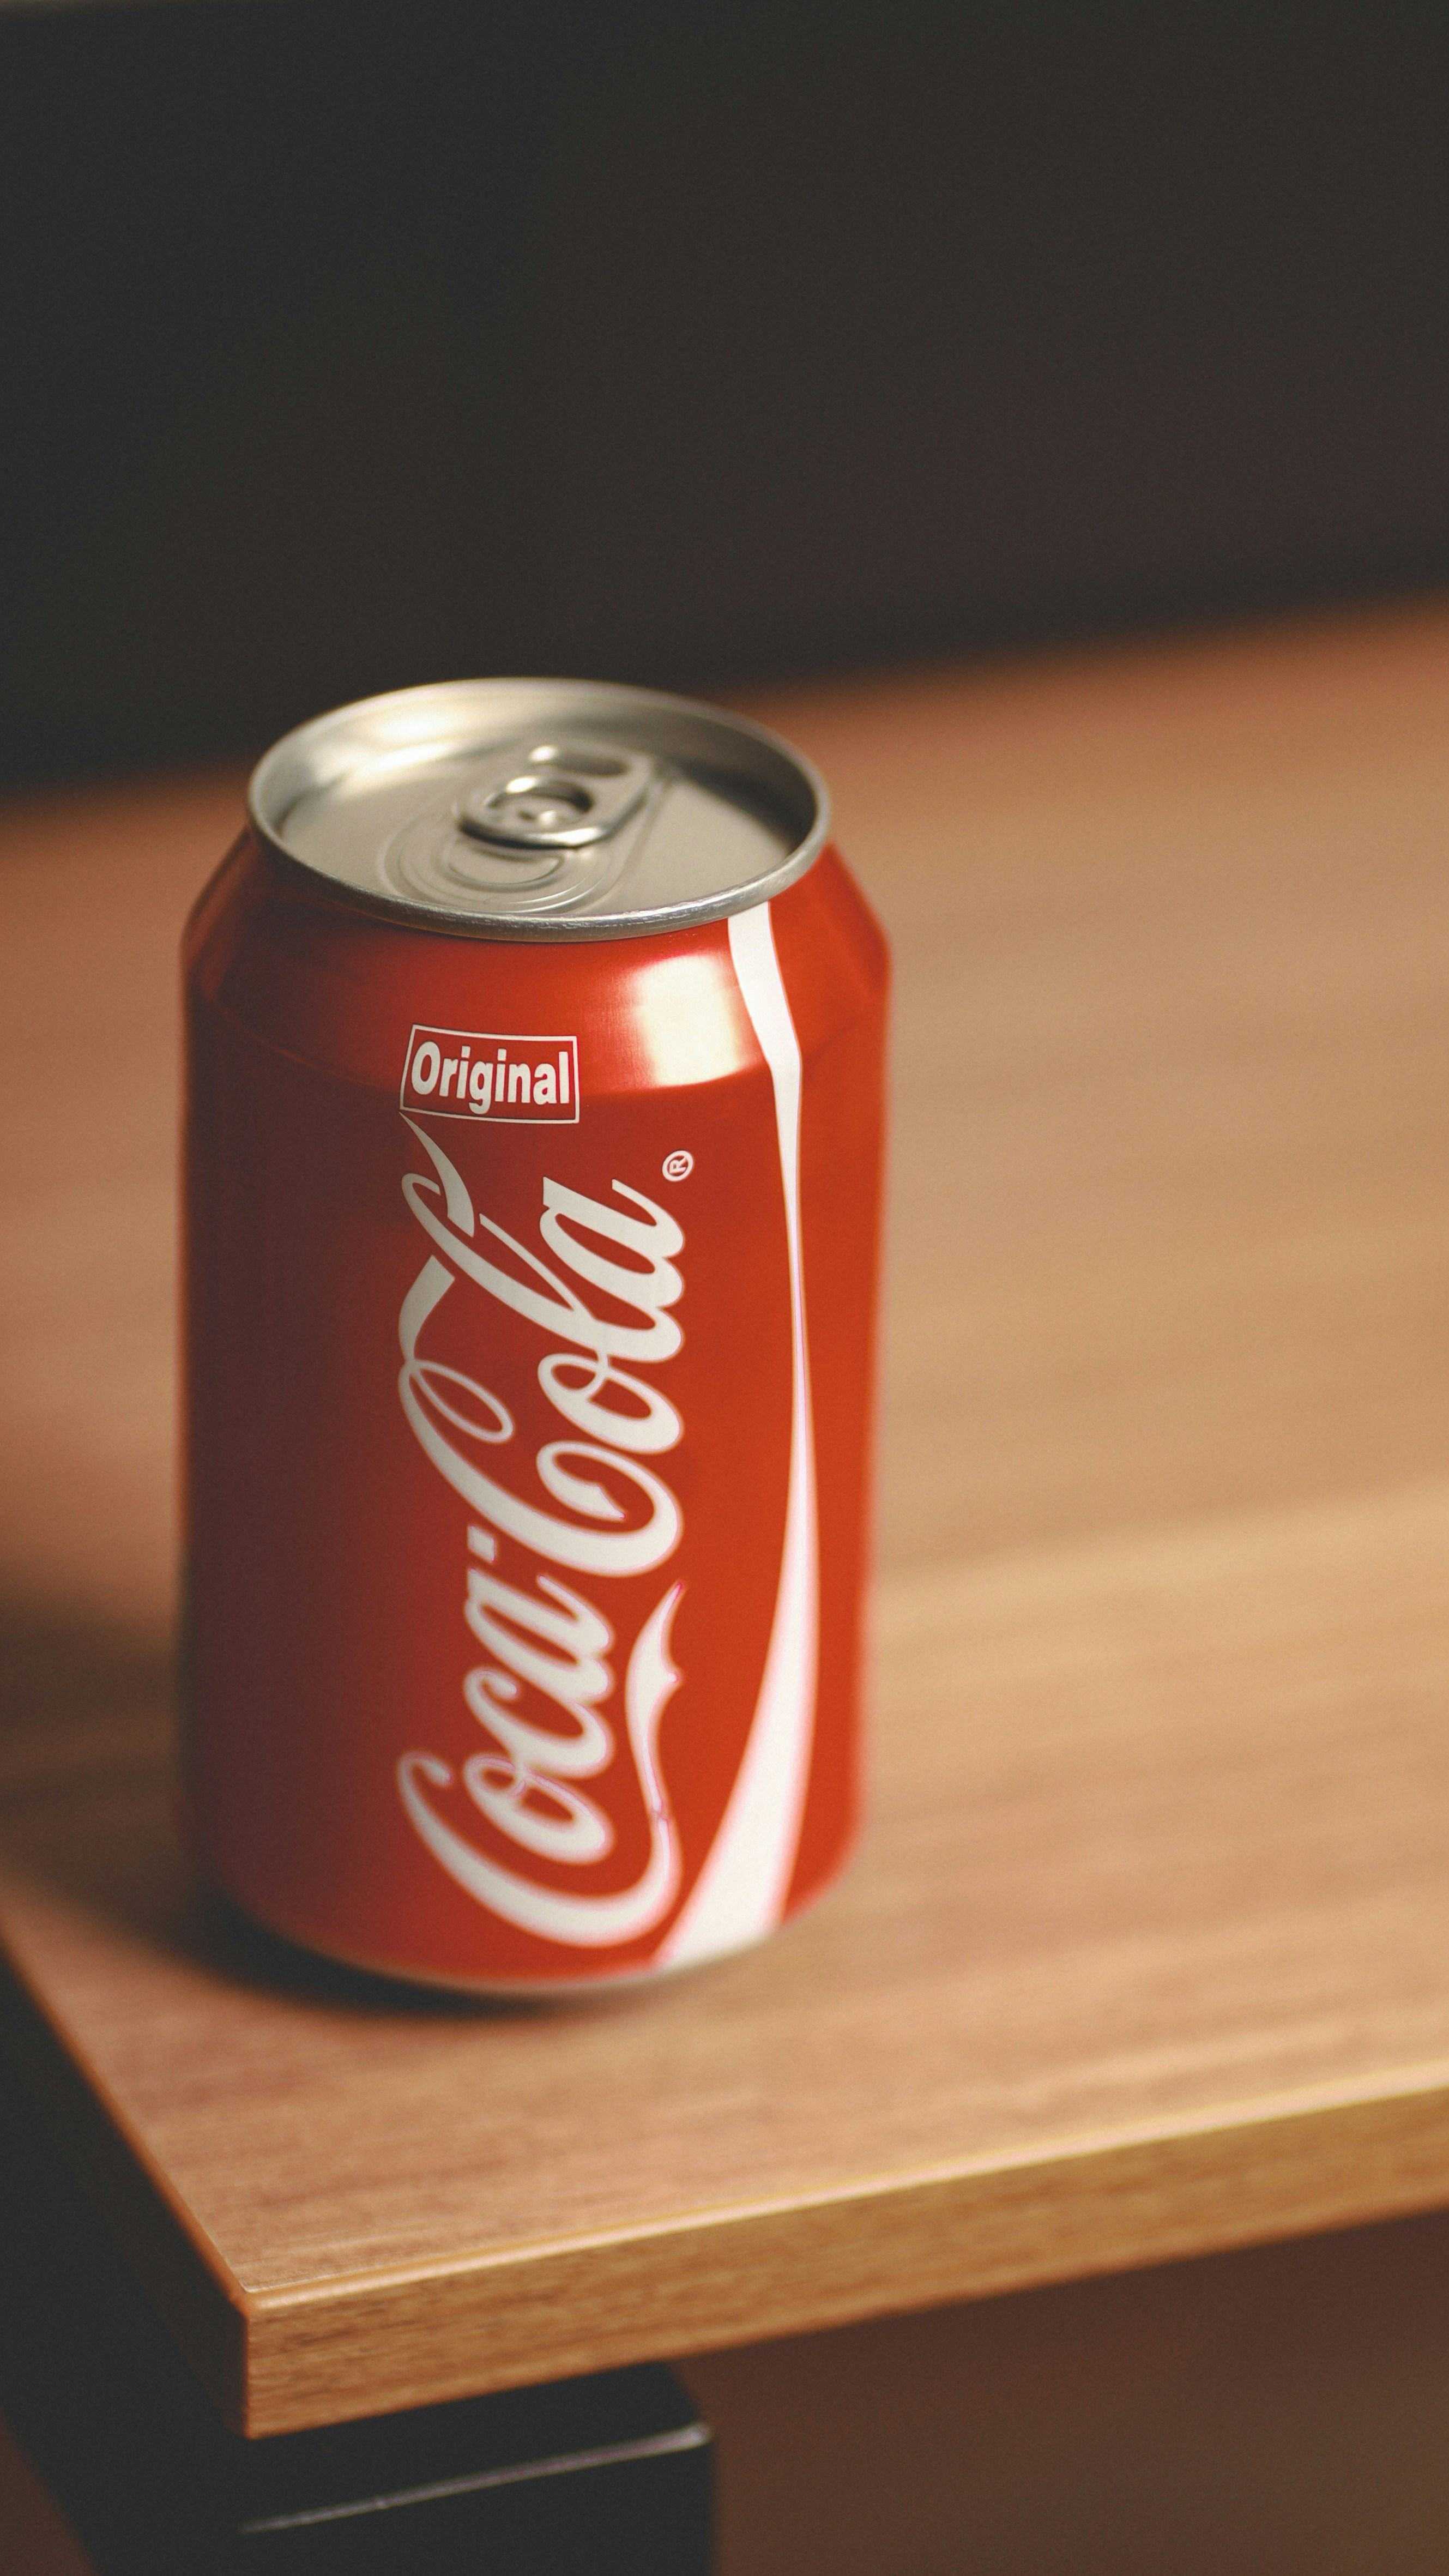COCOCOLA: (180, 810, 891, 1963)
